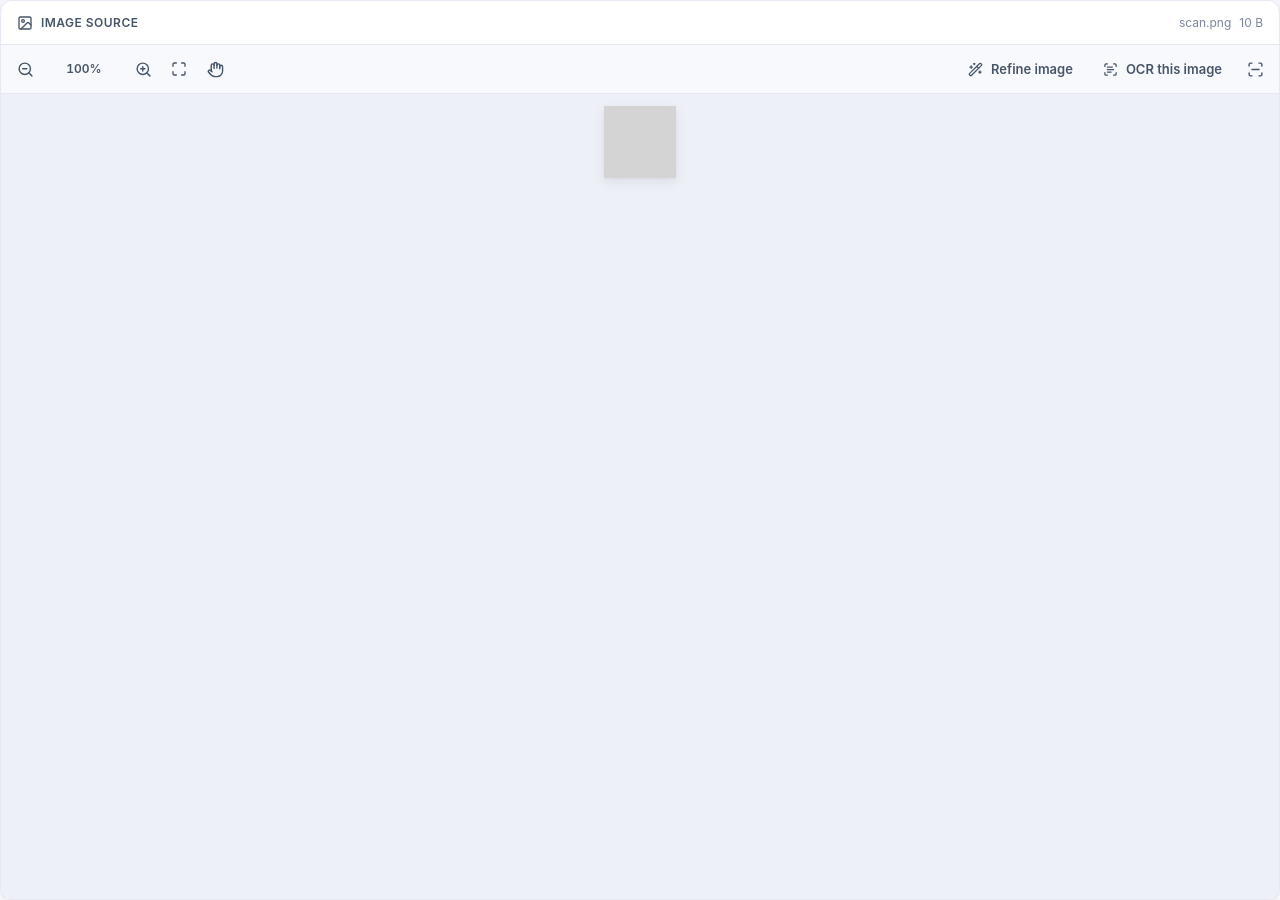
Test: SourcePanel image viewer › keeps the hand tool and region selection mutually exclusive
Click the button named "Hand tool": (215, 69) 199,53 -> 231,85
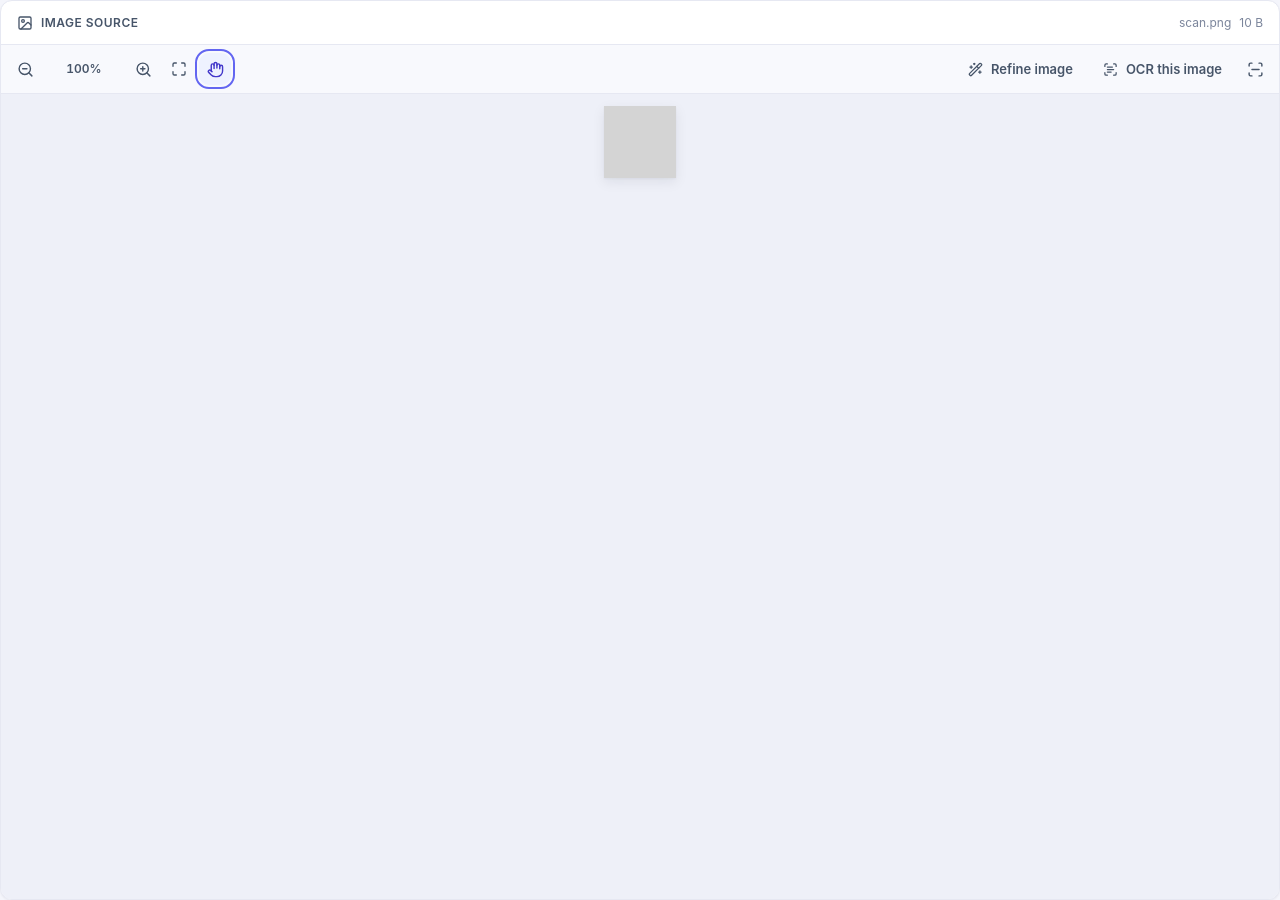
Check: the button named "Hand tool" is pressed, box 199,53 -> 231,85
Click the button named "Select region": (1255, 69) 1239,53 -> 1271,85
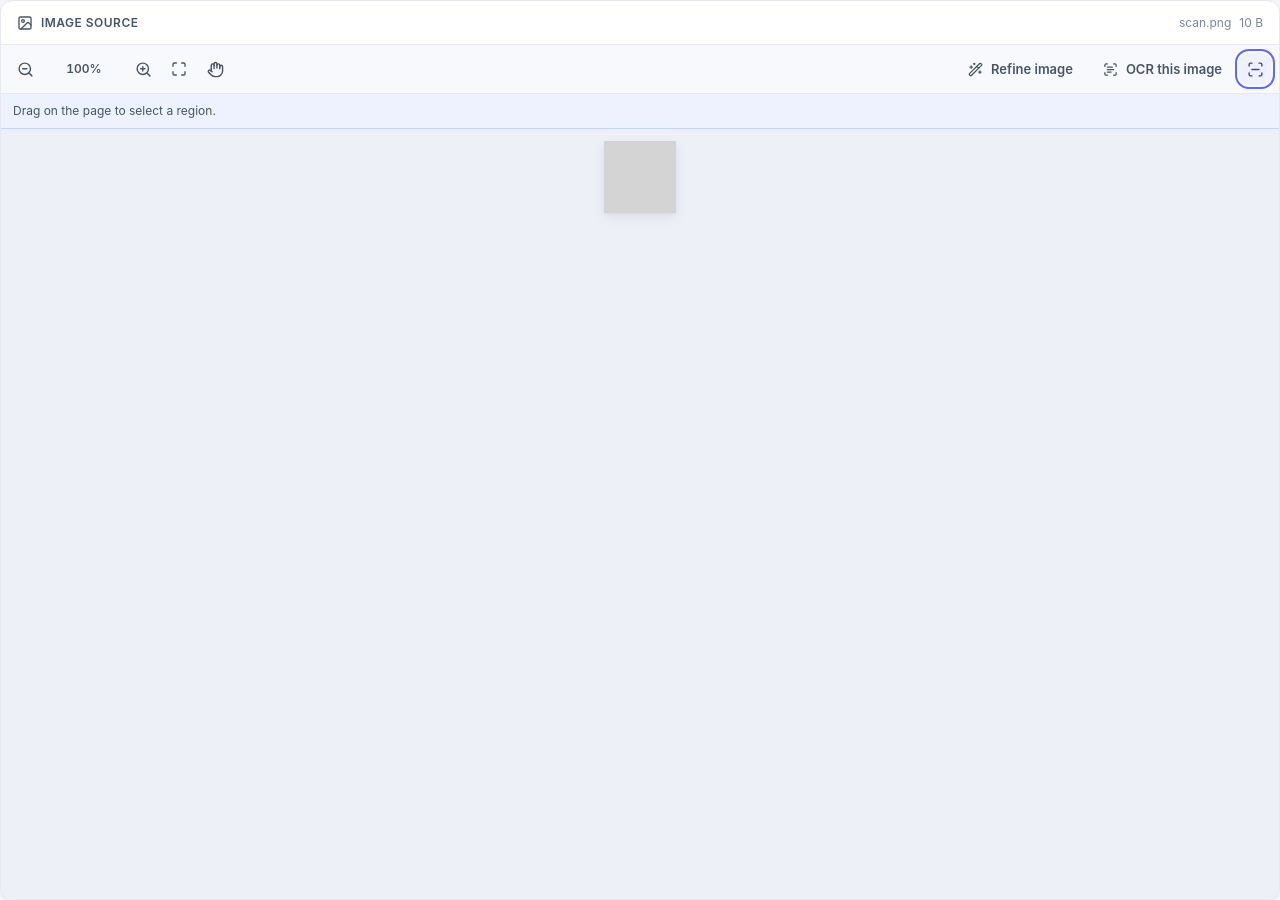
Check: the text "Drag on the page to select a region." is shown, box 13,102 -> 216,120
Click the button named "Hand tool": (215, 69) 199,53 -> 231,85
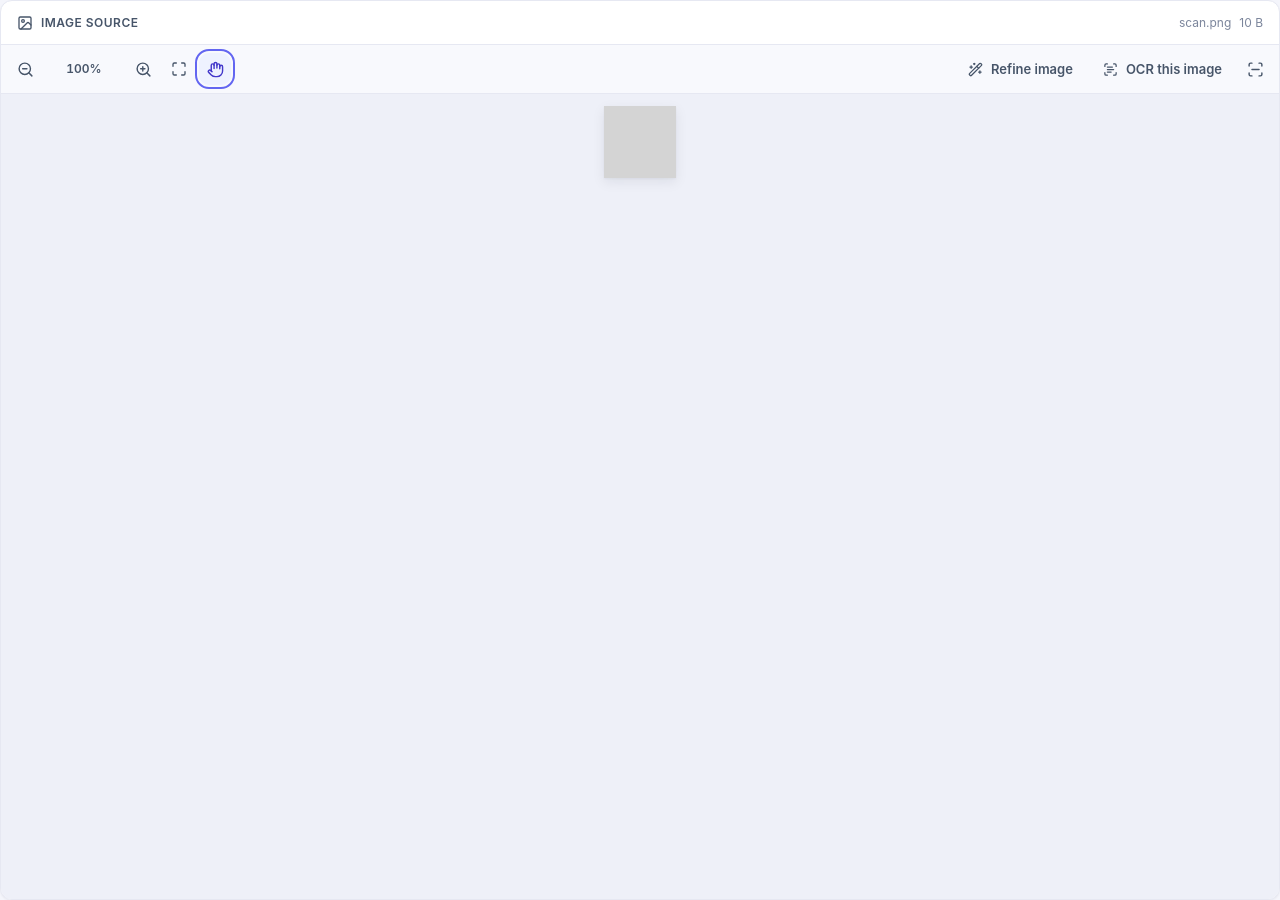
Check: the text "Drag on the page to select a region." is gone
